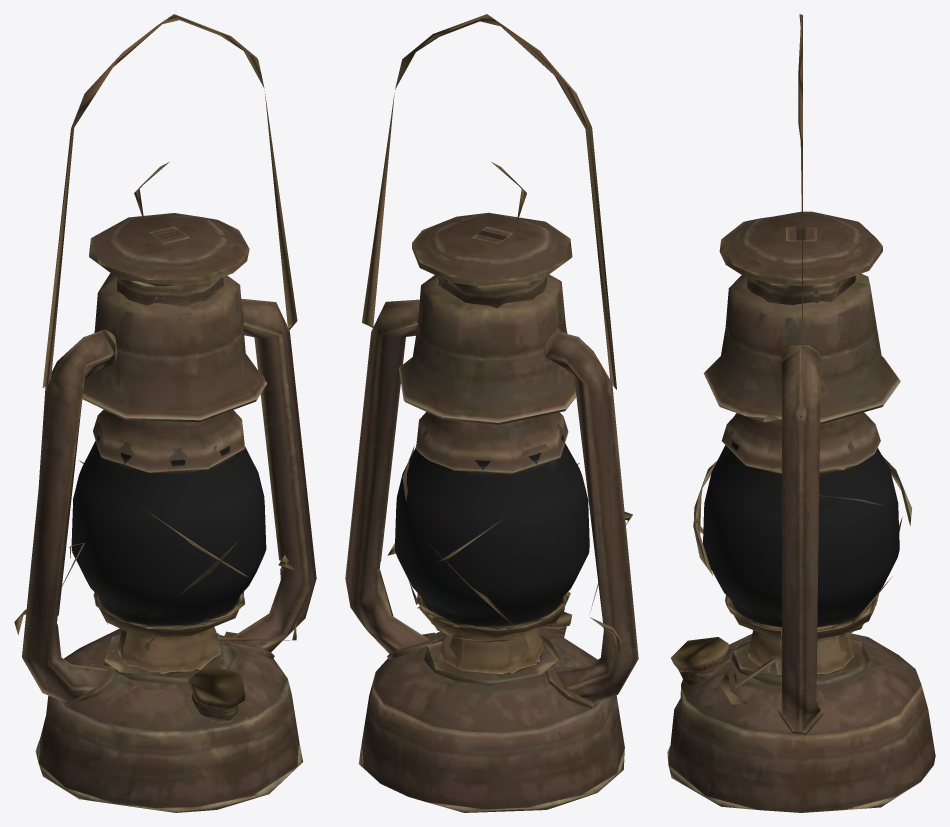
Rendered from lantern.glb.
The picture shows the model from 3 angles, left to right: view 1: azimuth 30°, elevation 25°; view 2: azimuth 150°, elevation 25°; view 3: azimuth 270°, elevation 25°; orthographic projection.
Visible parts, largest first — view 1: Lantern_01, Lantern_01_glass; view 2: Lantern_01, Lantern_01_glass; view 3: Lantern_01, Lantern_01_glass.
Part boxes in pixels (box(x1,y1,x2,y2)): Lantern_01: box(14, 14, 316, 812); Lantern_01_glass: box(71, 431, 266, 625); Lantern_01: box(345, 14, 638, 812); Lantern_01_glass: box(394, 433, 589, 631); Lantern_01: box(667, 14, 935, 812); Lantern_01_glass: box(703, 440, 899, 627).
Size of the model in its own units: 0.1219 by 0.2939 by 0.0954.
Materials: 2 (2 with a texture image).
